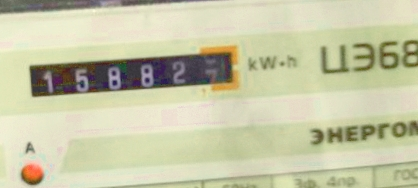1: (41, 68, 56, 94)
2: (170, 59, 187, 84)
5: (72, 65, 90, 92)
7: (204, 65, 219, 85)
8: (105, 64, 123, 91), (138, 62, 155, 87)
screen: (13, 36, 250, 113)
